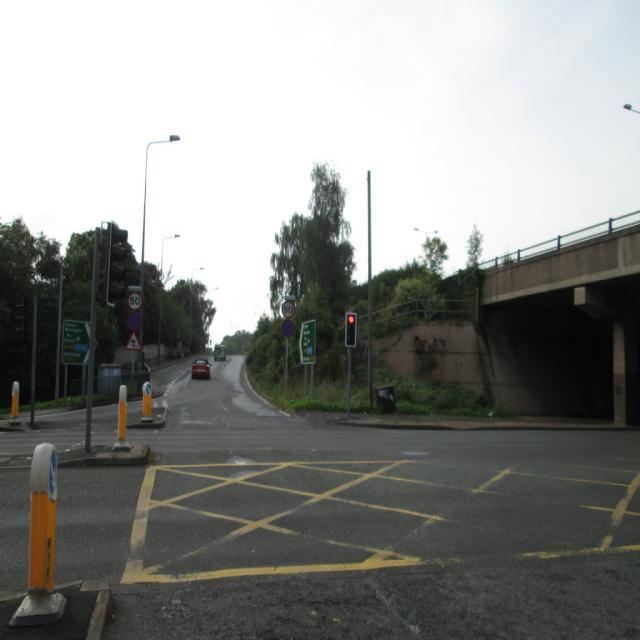off traffic light: (96, 220, 128, 304), (16, 298, 28, 339)
traffic light: (345, 314, 357, 348)
